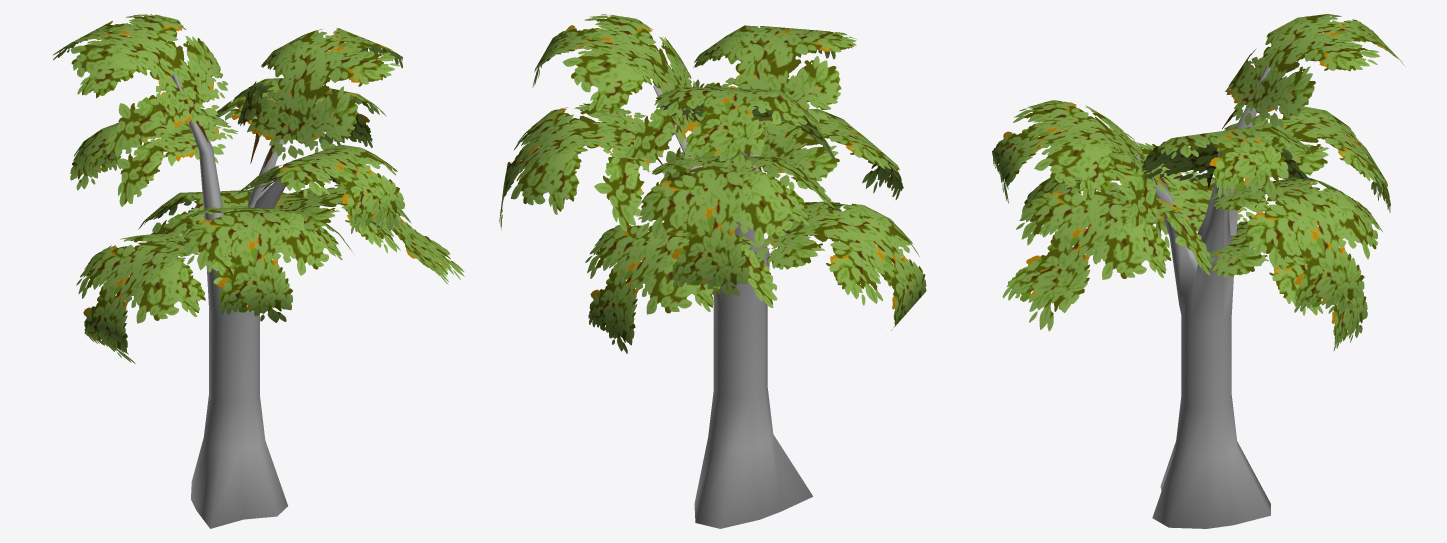
The model's file is SM_Tree_03.fbx.
3 renders of one model, left to right at view 1: azimuth 30°, elevation 25°; view 2: azimuth 150°, elevation 25°; view 3: azimuth 270°, elevation 25°, orthographic. The views are drawn at different scales.
Visible parts, largest first — view 1: SM_Tree_03; view 2: SM_Tree_03; view 3: SM_Tree_03.
Boxes of the visible parts, left/top/right/bottom form: SM_Tree_03: left=53, top=14, right=464, bottom=528; SM_Tree_03: left=499, top=14, right=926, bottom=528; SM_Tree_03: left=992, top=14, right=1405, bottom=528.
Size of the model in its own units: 1941 by 2371 by 2262.
